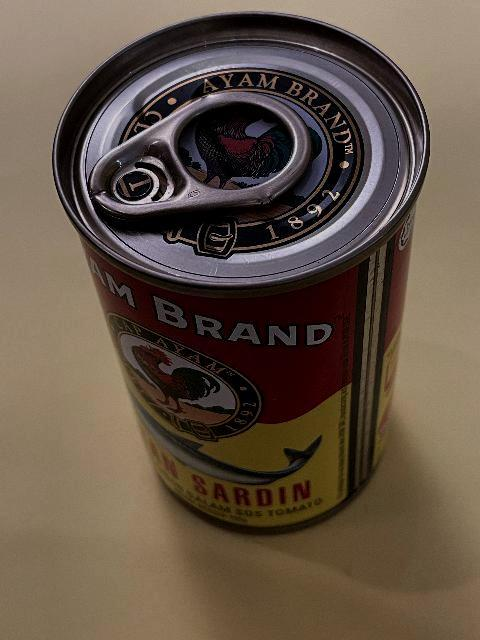foodcan: (50, 7, 432, 539)
